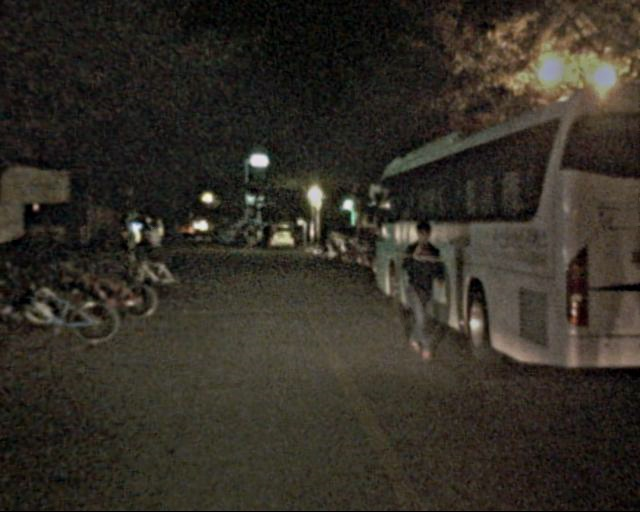person: (395, 211, 452, 364), (146, 219, 169, 275)
